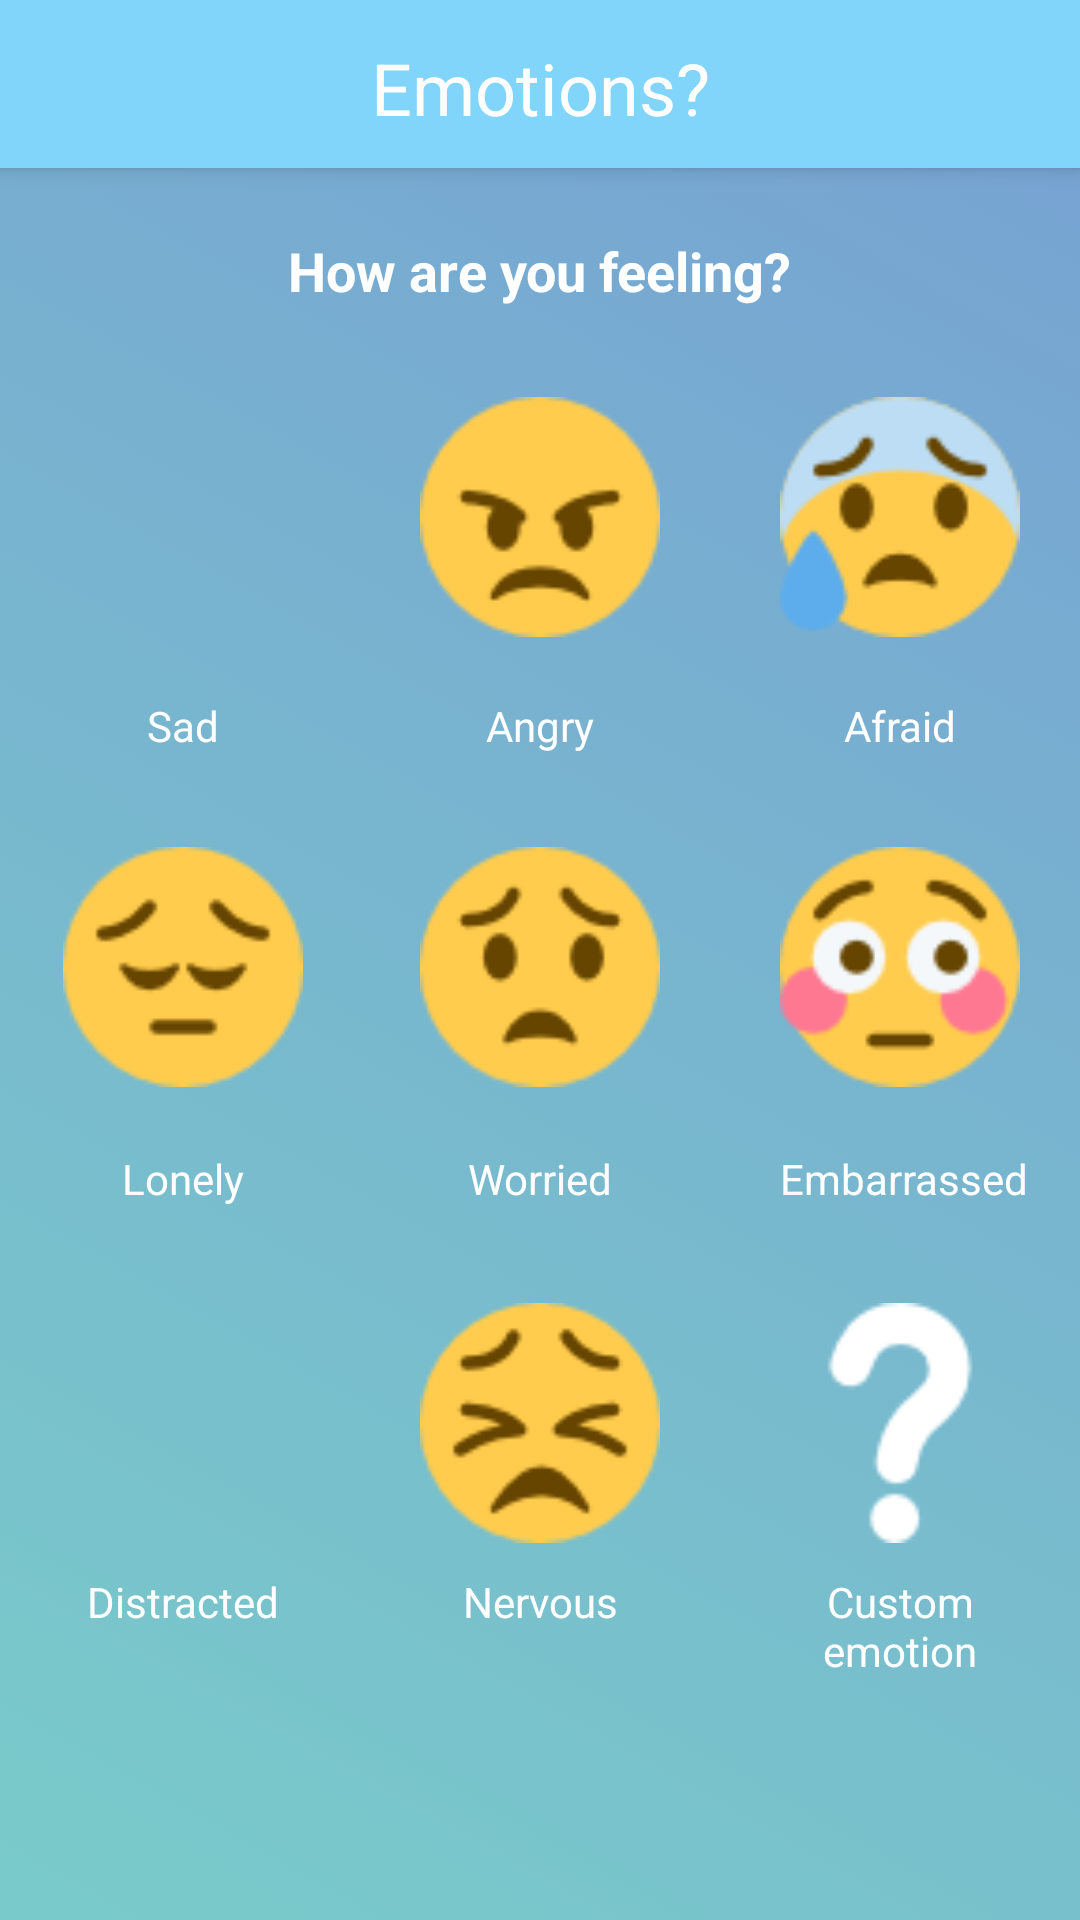

Icon click points for this 1080x1920 phone screenshot, format (x,y):
other: (900,1423)
